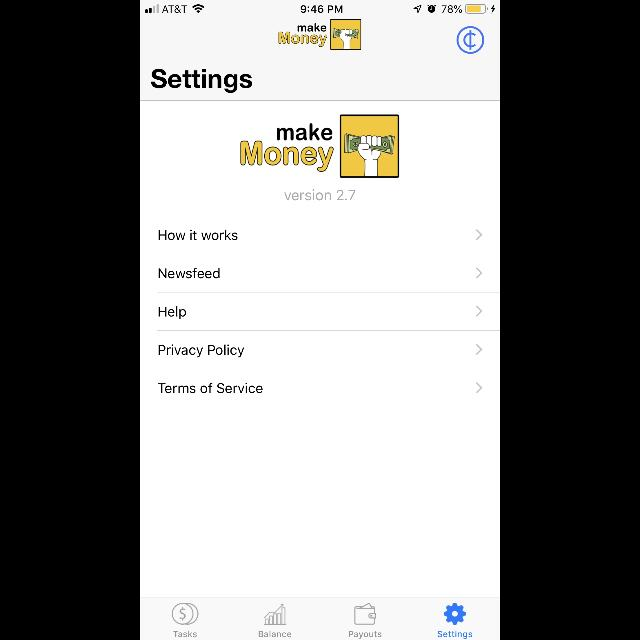icon: (172, 603, 198, 625), (444, 603, 466, 625), (354, 603, 376, 625), (264, 604, 286, 624), (476, 382, 482, 393), (476, 344, 482, 354), (476, 306, 482, 316), (476, 268, 482, 278), (476, 230, 482, 240)
image: (240, 114, 400, 178), (278, 20, 362, 50), (456, 26, 484, 54)
text: (152, 69, 252, 93), (159, 344, 245, 358), (159, 382, 263, 393), (158, 230, 238, 240), (284, 190, 356, 200), (158, 268, 220, 278), (159, 306, 187, 320), (438, 631, 472, 639), (348, 631, 382, 639), (258, 630, 292, 638), (175, 630, 198, 638)
uppertaskbar: (140, 0, 500, 14)
